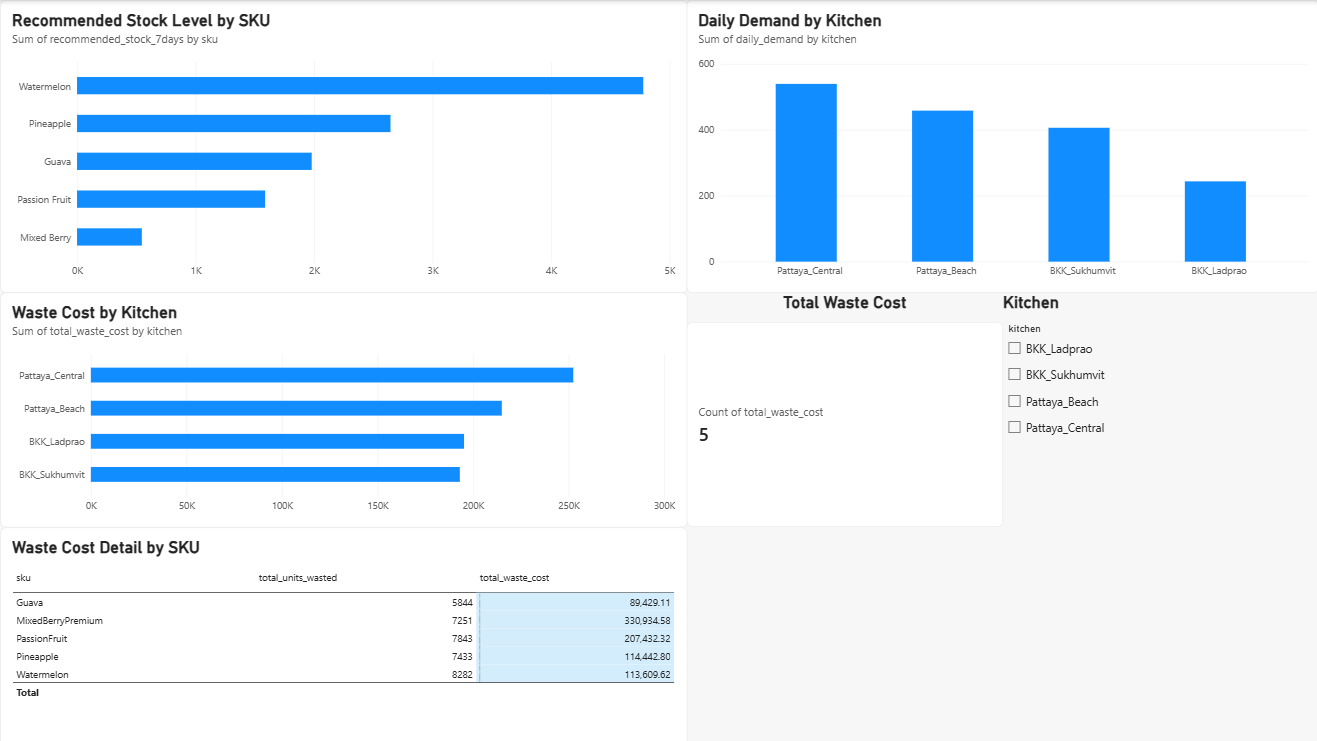

What the dashboard file says about the page in this screenshot:
{"tool":"powerbi","page":{"name":"Operations Analysis","canvas":[1920,1080],"ordinal":1},"visuals":[{"type":"clusteredBarChart","title":"Recommended Stock Level by SKU","fields":{"Category":["inventory_plan.sku"],"Y":["Sum(inventory_plan.recommended_stock_7days)"]},"box":[10,0,994,424],"z":0},{"type":"columnChart","title":"Daily Demand by Kitchen","fields":{"Category":["inventory_plan.kitchen"],"Y":["Sum(inventory_plan.daily_demand)"]},"box":[1004,0,916,424],"z":1000},{"type":"clusteredBarChart","title":"Waste Cost by Kitchen","fields":{"Category":["waste_by_kitchen.kitchen"],"Y":["Sum(waste_by_kitchen.total_waste_cost)"]},"box":[10,424,994,340],"z":2000},{"type":"tableEx","title":"Waste Cost Detail by SKU","fields":{"Values":["waste_analysis.sku","waste_analysis.total_units_wasted","waste_analysis.total_waste_cost"]},"box":[10,764,994,316],"z":3000},{"type":"slicer","title":"Kitchen","fields":{"Values":["inventory_plan.kitchen"]},"box":[1462,424,458,340],"z":4000},{"type":"cardVisual","title":"Total Waste Cost","fields":{"Data":["CountNonNull(waste_analysis.total_waste_cost)"]},"box":[1004,424,458,340],"z":5000}]}

Visuals, with their boxes in screenshot pixels (x1, y1, x2, y2), scaled from the page's 1920x1080 canvas onto the 1317x741 screenshot:
"Recommended Stock Level by SKU" clusteredBarChart: (7,0,689,291)
"Daily Demand by Kitchen" columnChart: (689,0,1316,291)
"Waste Cost by Kitchen" clusteredBarChart: (7,291,689,524)
"Waste Cost Detail by SKU" tableEx: (7,524,689,740)
"Kitchen" slicer: (1003,291,1316,524)
"Total Waste Cost" cardVisual: (689,291,1003,524)
